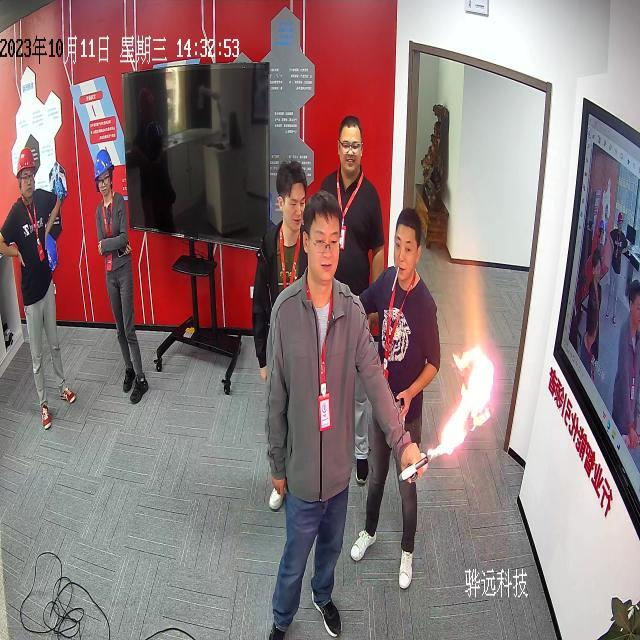Fire: (432, 346, 494, 460)
